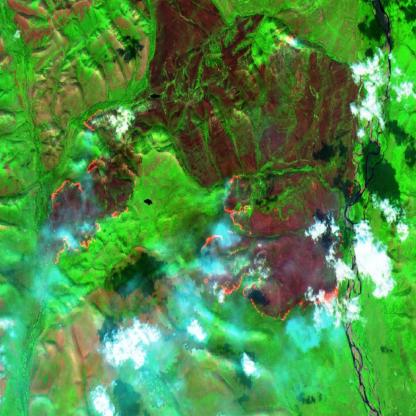fire: (196, 169, 360, 327), (38, 100, 140, 276), (270, 25, 303, 57)
